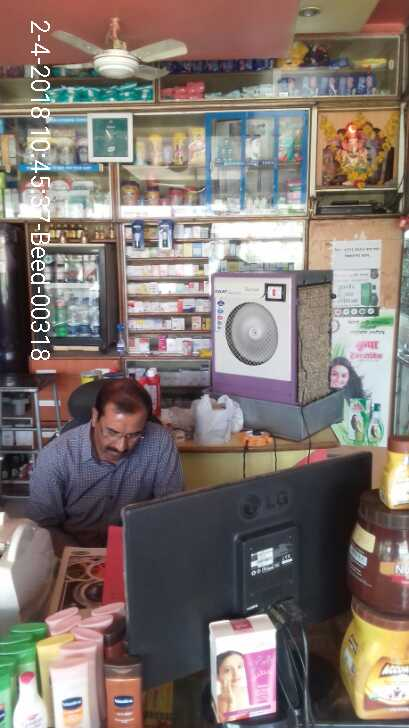vicks: (216, 137, 236, 167)
